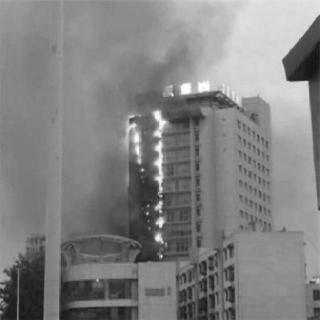Fire: (127, 109, 171, 253)
